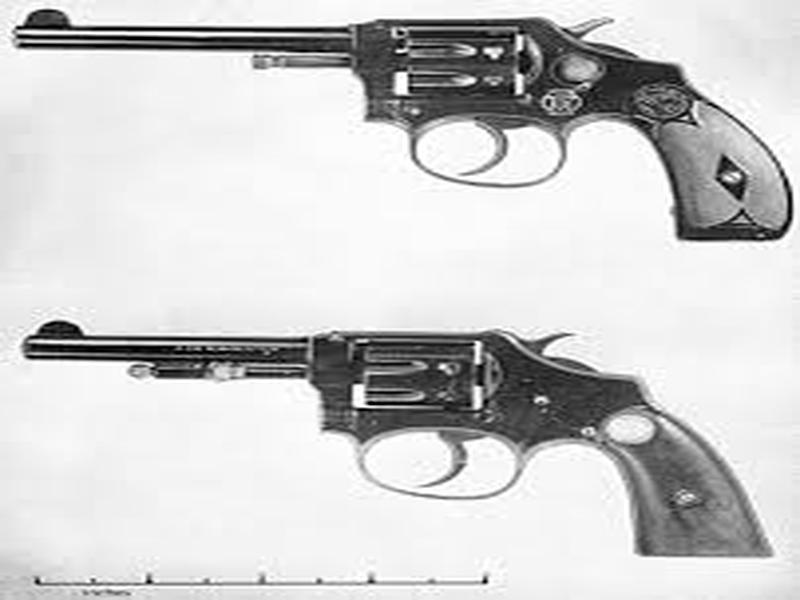gun: (12, 317, 778, 563), (10, 8, 796, 244)
